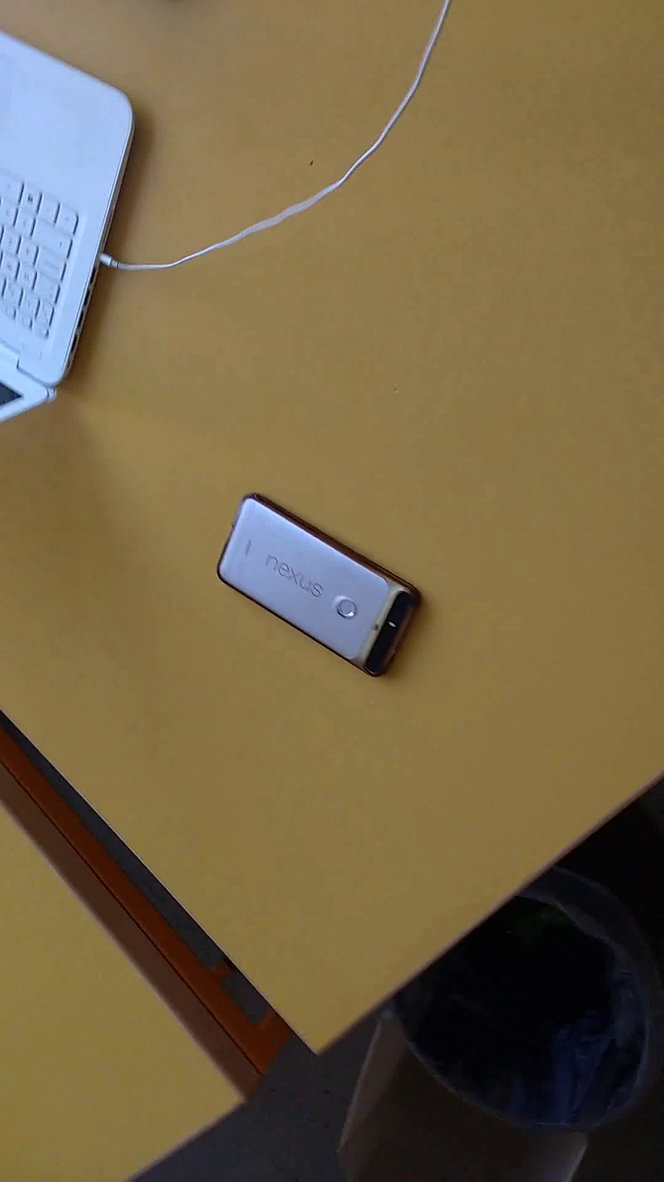phone: (213, 478, 432, 695)
